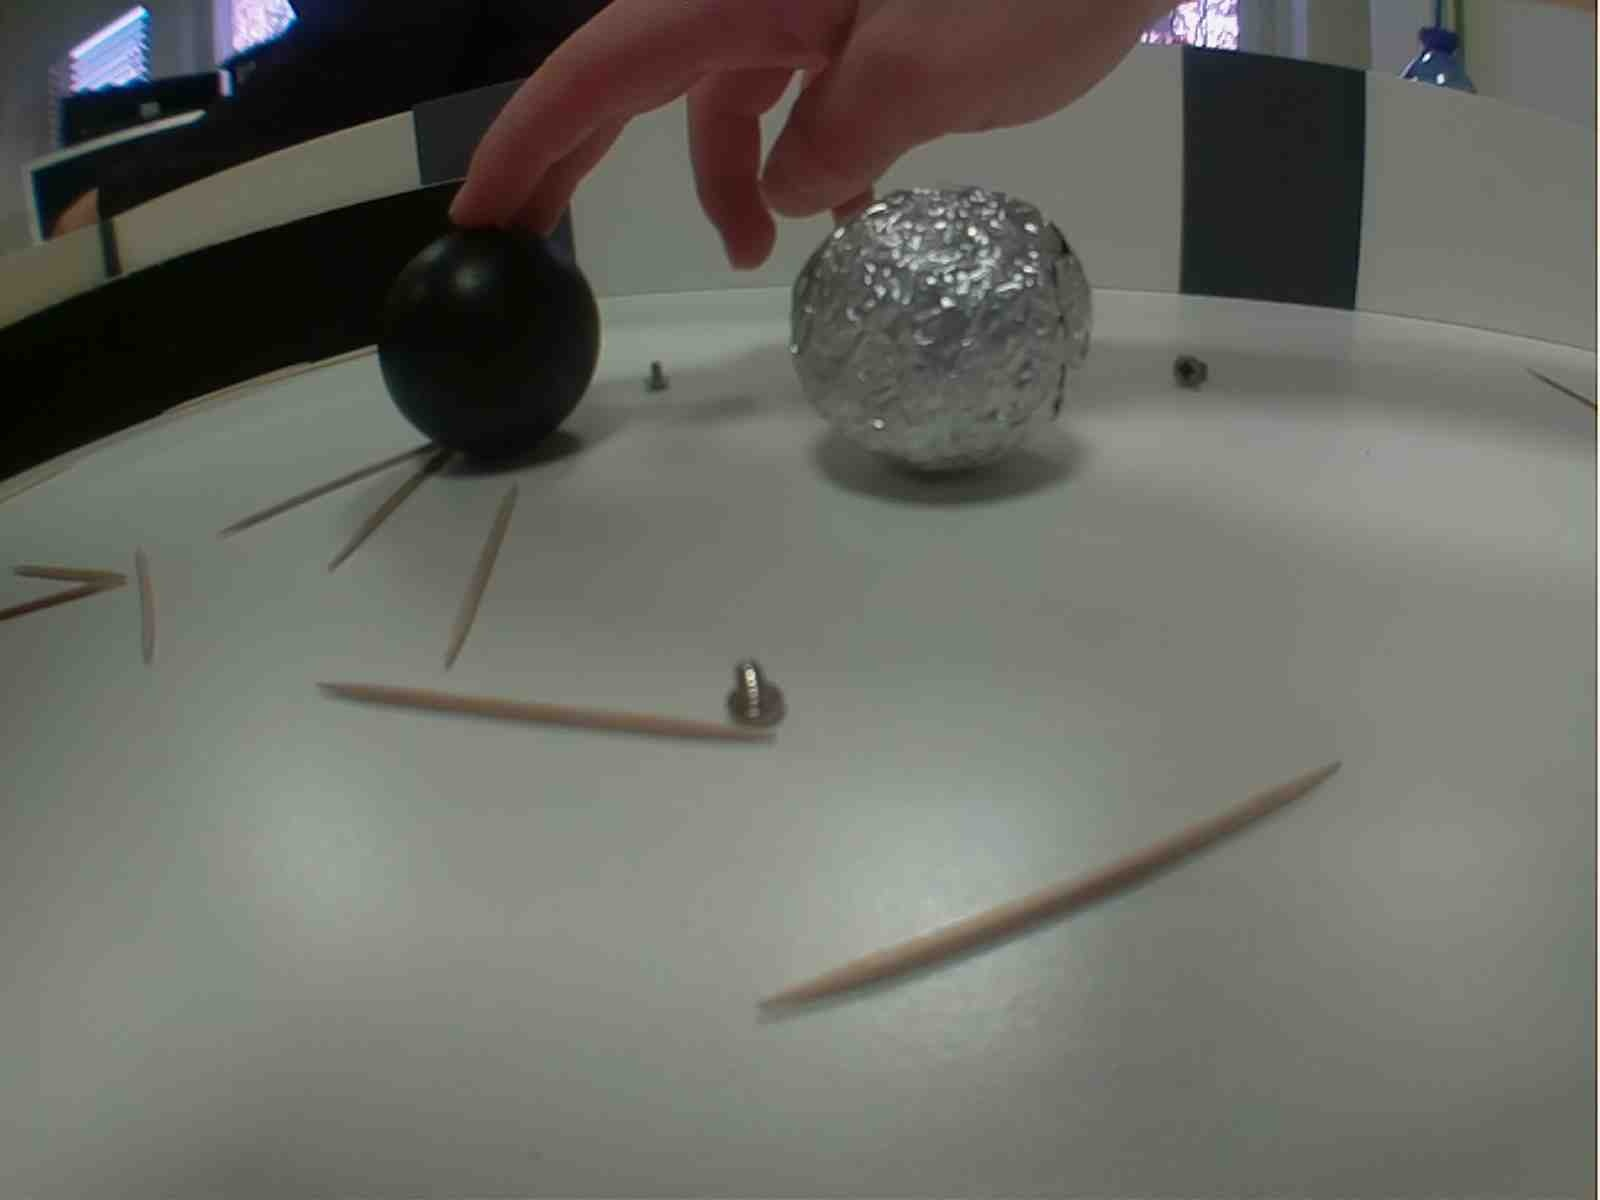bianca: (790, 182, 1100, 487)
nera: (382, 224, 603, 466)
